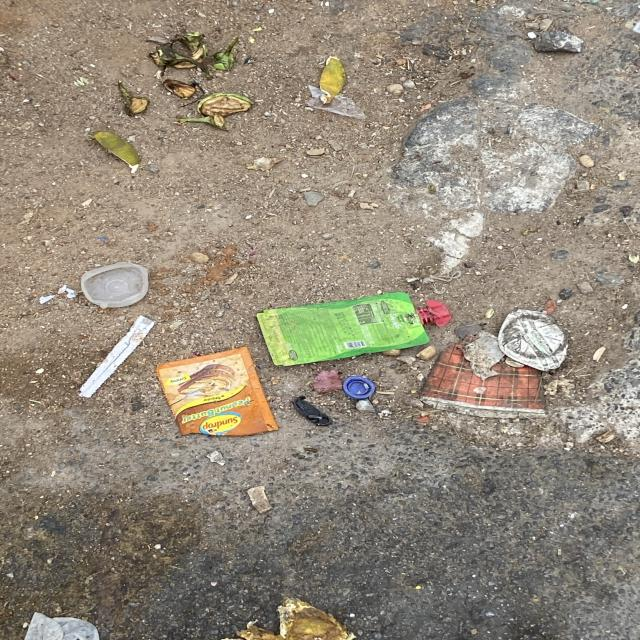biowaste: (149, 31, 238, 78), (177, 92, 253, 129), (117, 81, 148, 115), (161, 78, 197, 98)
plastic: (80, 262, 148, 308), (417, 300, 451, 327), (342, 376, 375, 400)
wrapper: (256, 292, 430, 366), (156, 347, 278, 436)
